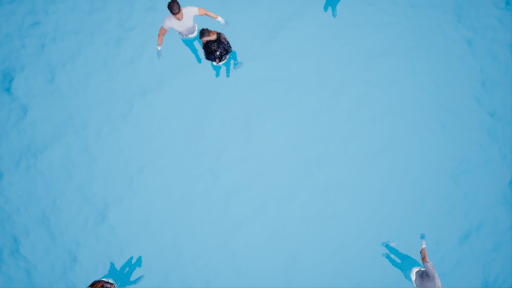person: (145, 1, 247, 77), (374, 229, 442, 288)
